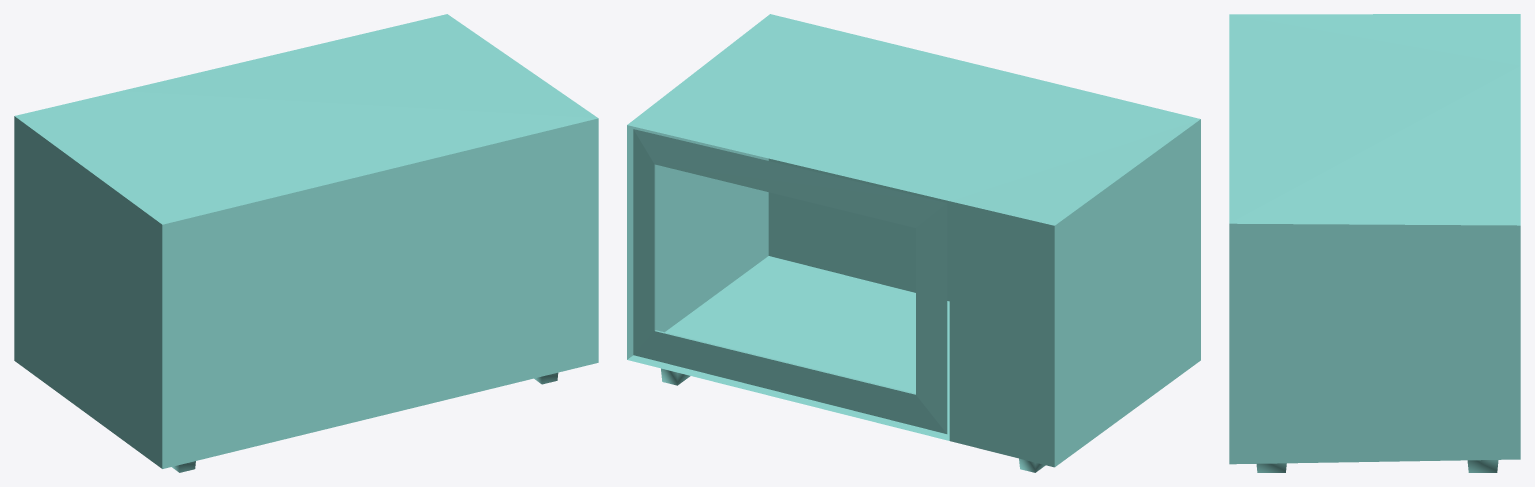
The model's file is MicroWave_Collision.fbx.
The picture shows the model from 3 angles, left to right: view 1: azimuth 30°, elevation 25°; view 2: azimuth 150°, elevation 25°; view 3: azimuth 270°, elevation 25°; orthographic projection.
Visible parts, largest first — view 1: MicroWave_Collision; view 2: MicroWave_Collision; view 3: MicroWave_Collision.
Boxes of the visible parts, x1,y1,x2,y2 form: MicroWave_Collision: (14, 14, 598, 472); MicroWave_Collision: (627, 14, 1200, 472); MicroWave_Collision: (1229, 14, 1520, 472).
Size of the model in its own units: 0.5045 by 0.2948 by 0.2967.
